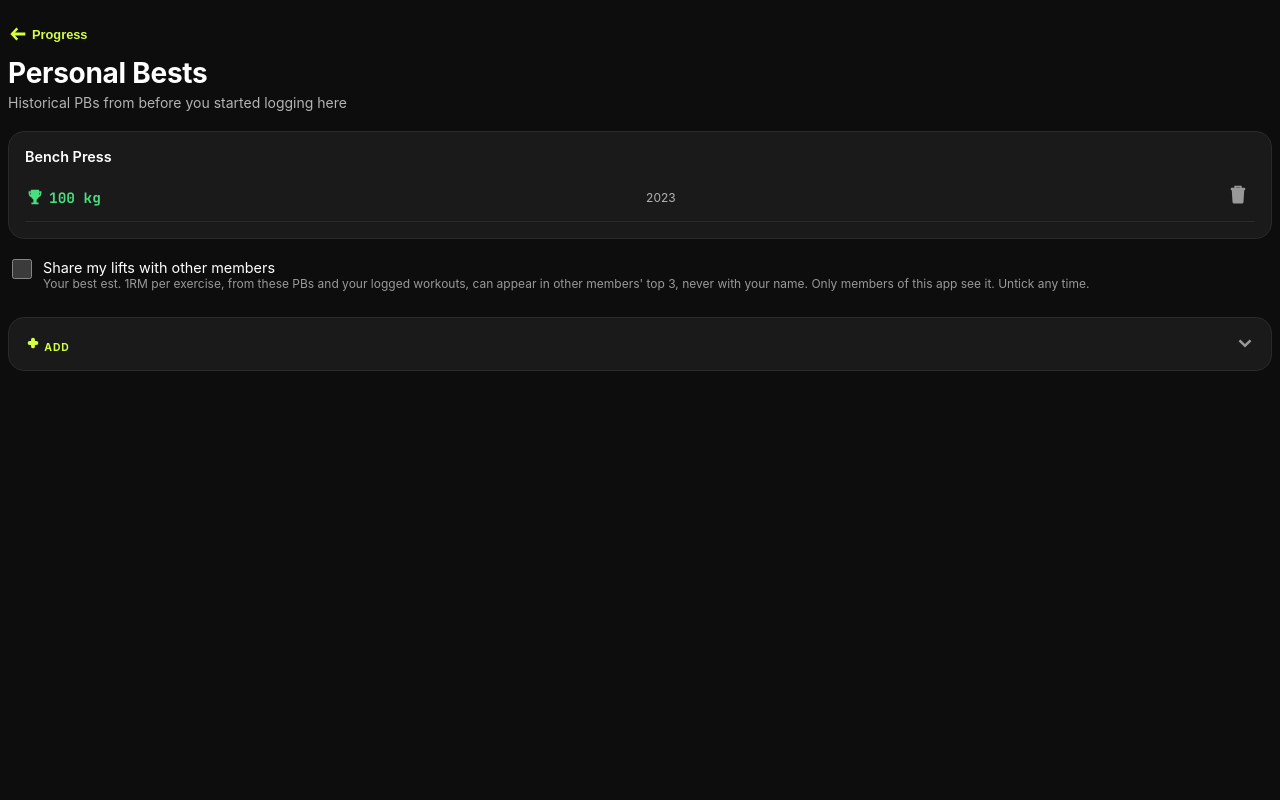
it: PersonalBests top-3 comparison › reverts the toggle and shows an error when the save fails
Click the checkbox: (22, 269) [12,259,32,279]
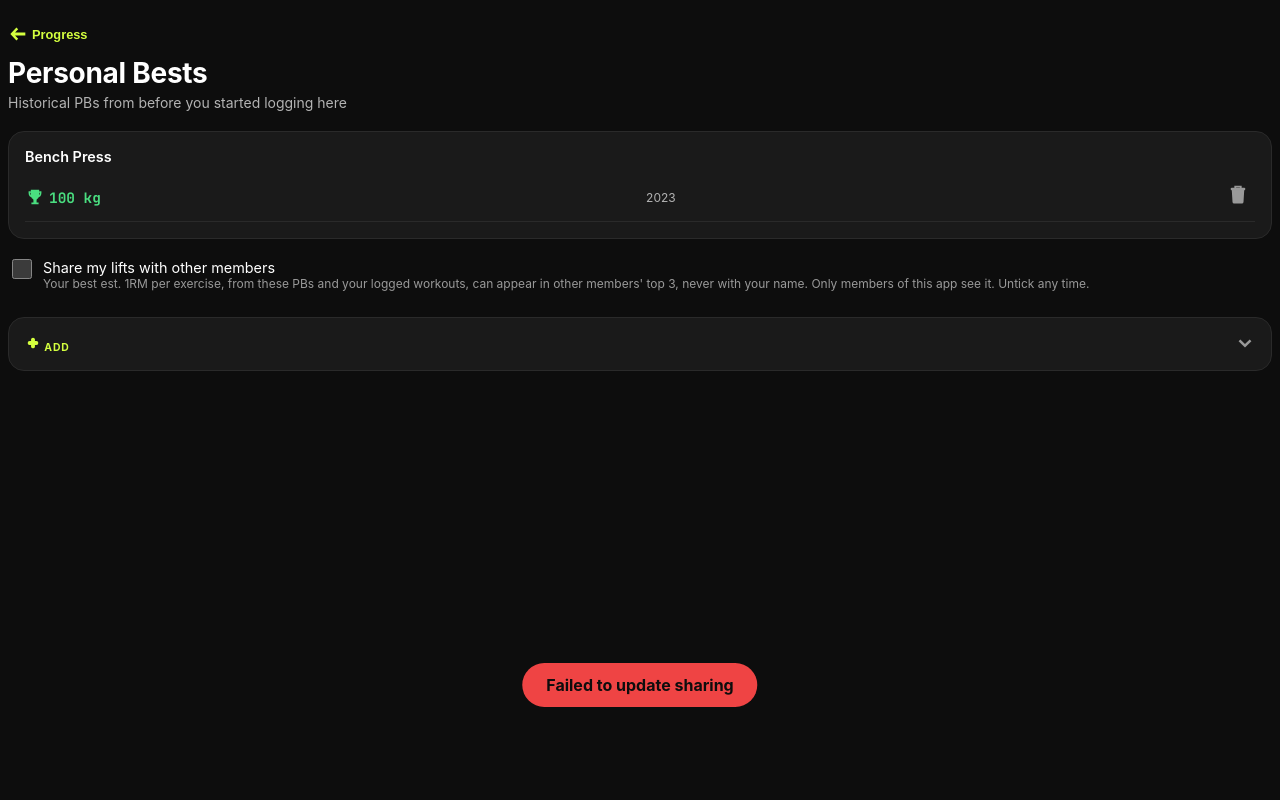
Now the text "Failed to update sharing" is shown, box [522,663,758,707]
